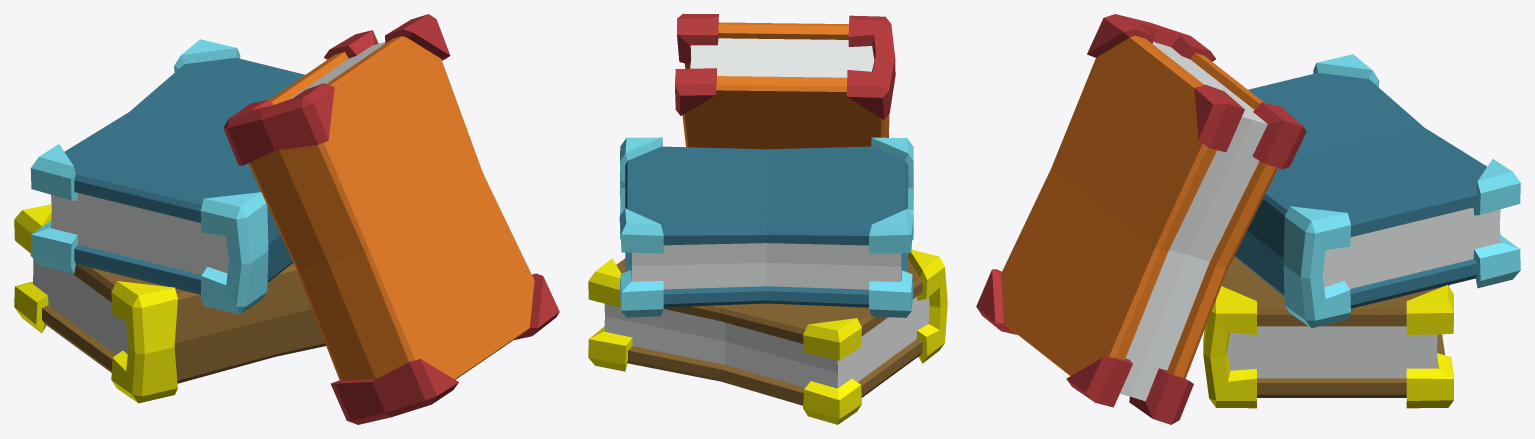
Rendered from pile_of_books.glb.
3 renders of one model, left to right at view 1: azimuth 30°, elevation 25°; view 2: azimuth 150°, elevation 25°; view 3: azimuth 270°, elevation 25°, orthographic. The views are drawn at different scales.
Parts seen in each view (by area): view 1: Book_Pile_Accent_0; view 2: Book_Pile_Accent_0; view 3: Book_Pile_Accent_0.
Part boxes in pixels (box(x1,y1,x2,y2)): Book_Pile_Accent_0: box(14, 14, 559, 424); Book_Pile_Accent_0: box(588, 14, 947, 424); Book_Pile_Accent_0: box(976, 14, 1520, 424).
Size of the model in its own units: 129 by 98.55 by 155.
Materials: 1 (1 with a texture image).
